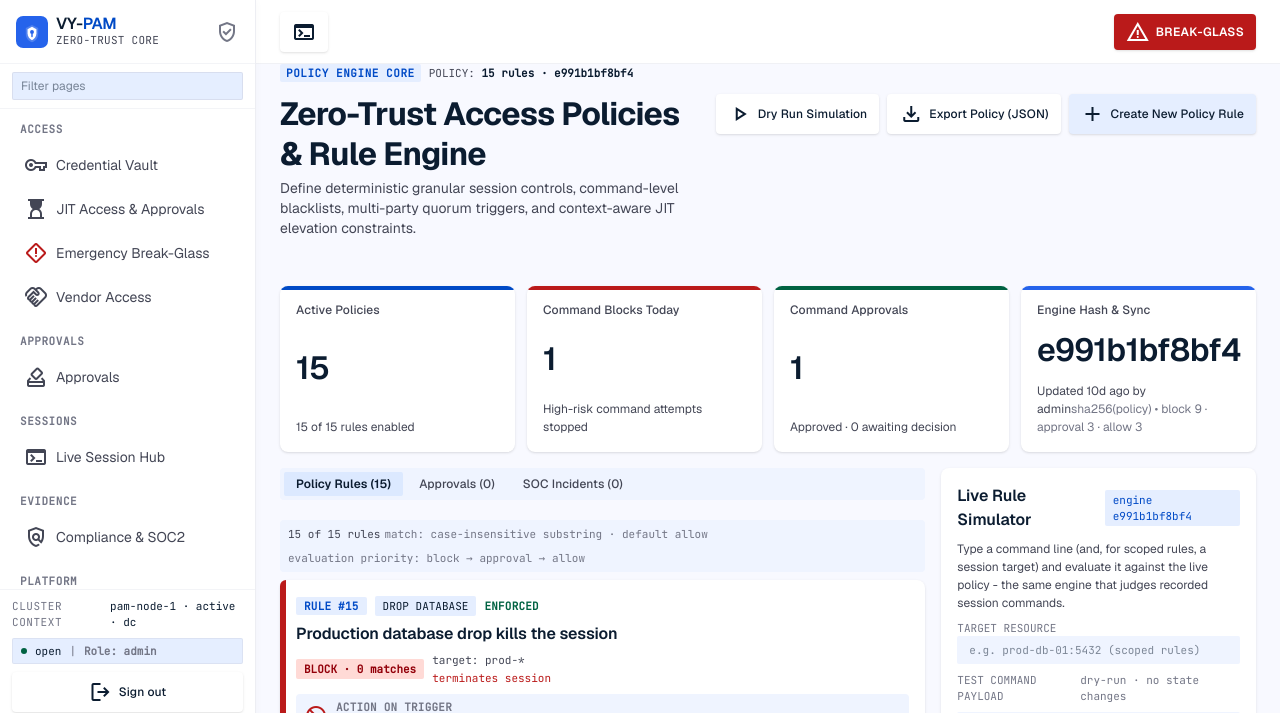
Policy & Zero Trust (F4 screen 5) › a closed incident renders the reviewed state without a close action
Press the mouse on the tab "SOC Incidents (0)": coordinates (573, 484) [511,472,635,496]
(page scrolled)
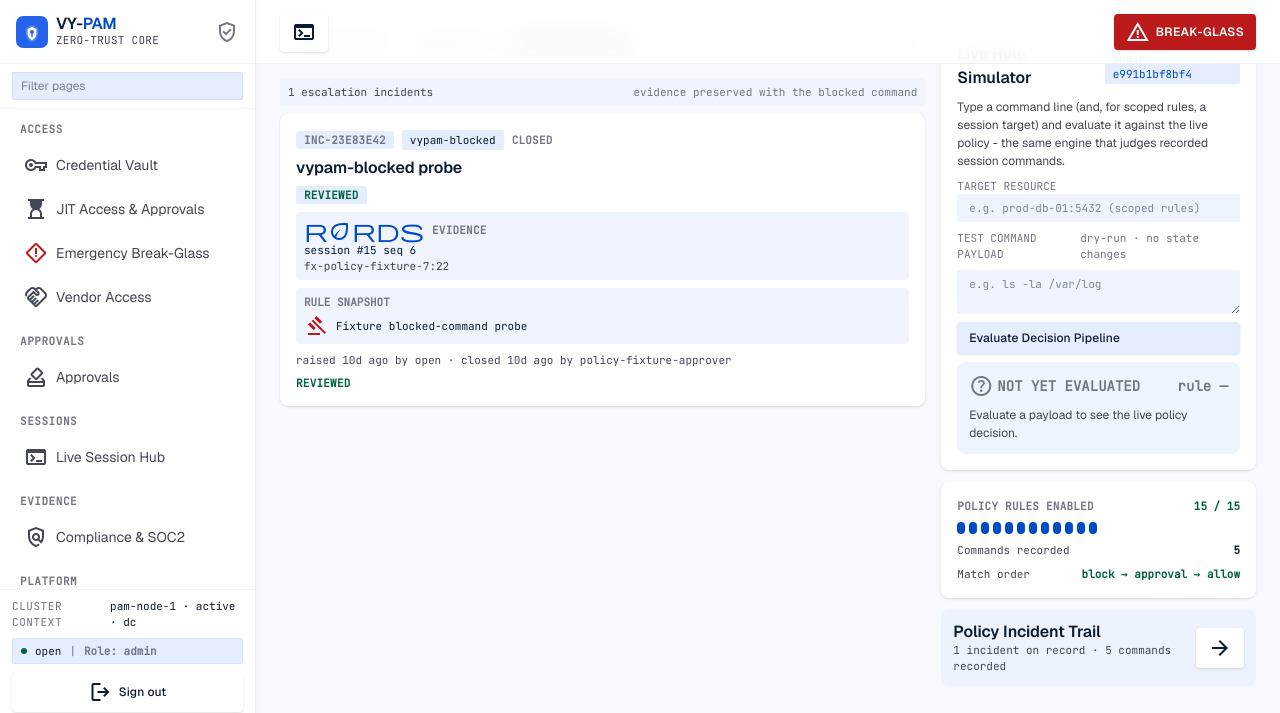
Result: the text "CLOSED" is shown at [512,133,553,147]
Result: the text "reviewed" is shown at [296,186,367,204]
Result: the text "Reviewed" is shown at [296,376,351,390]
